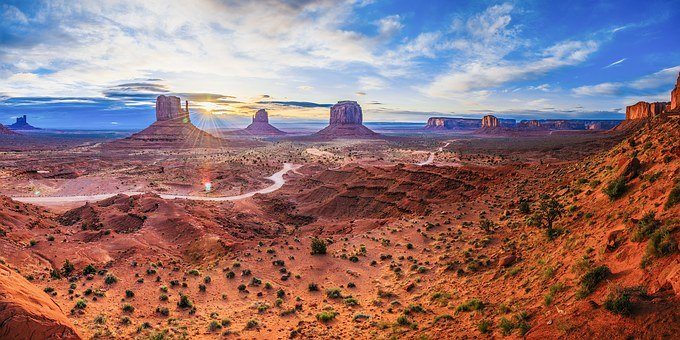mountain: (10, 127, 680, 335)
sky: (3, 6, 673, 112)
